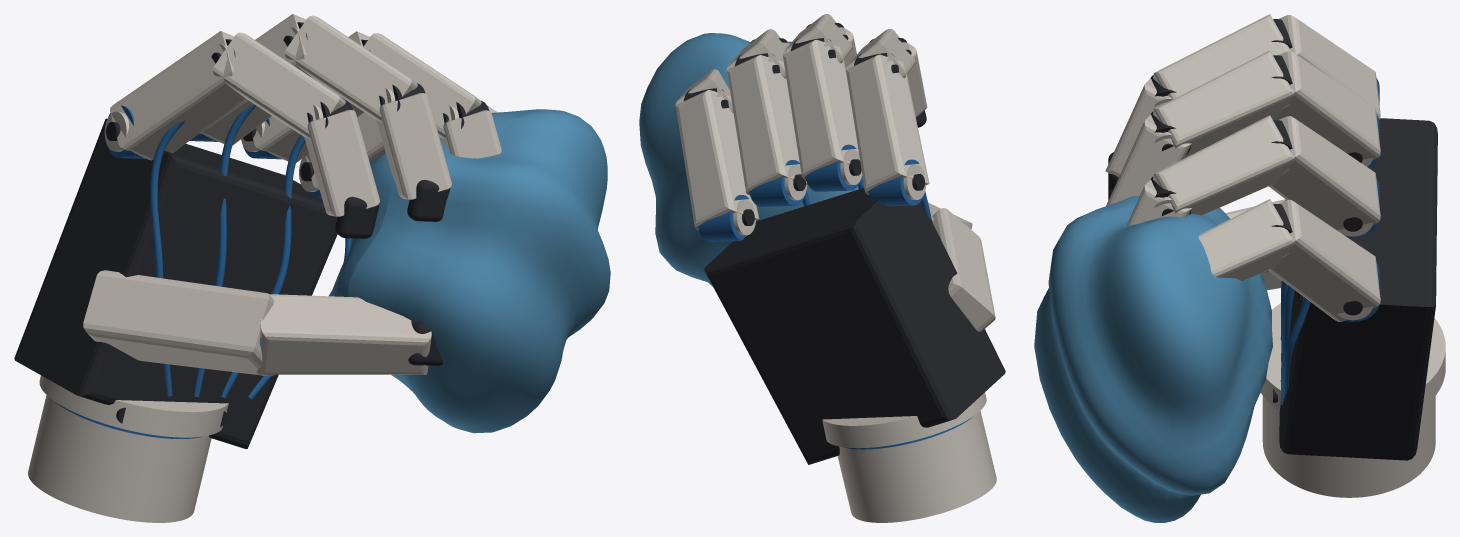
File: anatomy-52.glb
3 views of the same model, side by side, from view 1: azimuth 30°, elevation 25°; view 2: azimuth 150°, elevation 25°; view 3: azimuth 270°, elevation 25° (orthographic). The views are drawn at different scales.
Parts seen in each view (by area): view 1: object 9, palm, fingers, thumb, wrist, wrist-clamp, tendons, pads, bases, hinges; view 2: palm, fingers, object 9, wrist, bases, thumb, wrist-clamp, hinges; view 3: object 9, fingers, palm, wrist, wrist-clamp, hinges, tendons, bases.
Part boxes in pixels (left/top/right/bottom): object 9: left=332, top=109, right=610, bottom=433; palm: left=14, top=118, right=337, bottom=448; fingers: left=110, top=14, right=501, bottom=216; thumb: left=83, top=270, right=431, bottom=376; wrist: left=28, top=395, right=211, bottom=522; wrist-clamp: left=39, top=375, right=228, bottom=437; tendons: left=150, top=104, right=351, bottom=399; pads: left=335, top=180, right=450, bottom=365; bases: left=104, top=105, right=321, bottom=197; hinges: left=211, top=22, right=490, bottom=128; palm: left=704, top=188, right=1005, bottom=464; fingers: left=675, top=14, right=929, bottom=230; object 9: left=639, top=33, right=858, bottom=286; wrist: left=837, top=411, right=996, bottom=522; bases: left=698, top=144, right=926, bottom=241; thumb: left=928, top=202, right=995, bottom=331; wrist-clamp: left=822, top=392, right=986, bottom=448; hinges: left=683, top=23, right=911, bottom=108; object 9: left=1034, top=196, right=1272, bottom=522; fingers: left=1105, top=14, right=1380, bottom=321; palm: left=1279, top=118, right=1437, bottom=460; wrist: left=1262, top=396, right=1435, bottom=497; wrist-clamp: left=1260, top=303, right=1445, bottom=410; hinges: left=1150, top=19, right=1292, bottom=257; tendons: left=1280, top=199, right=1310, bottom=405; bases: left=1337, top=78, right=1379, bottom=321.
Bounding box in the file's own units: 1.49 × 1.45 × 1.1.
